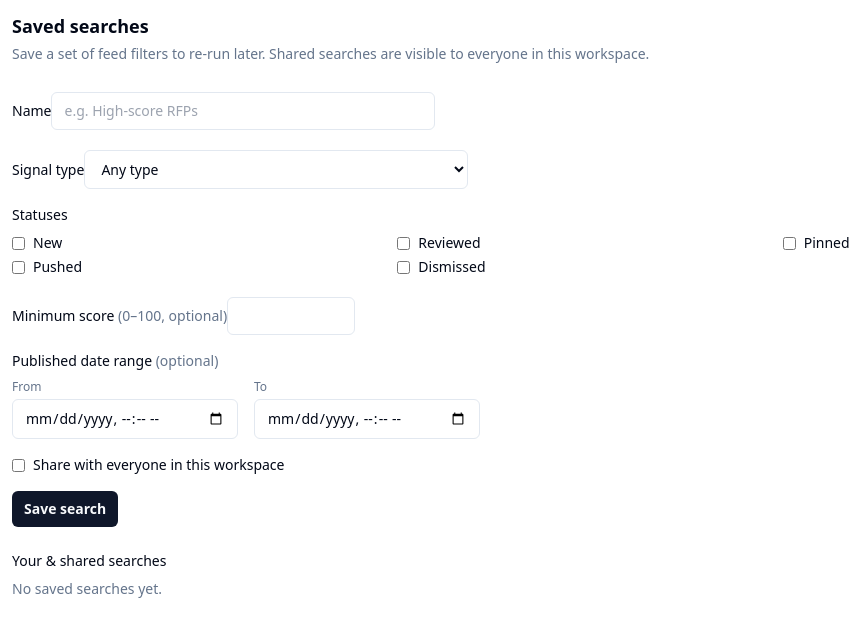
Test case: SavedSearchManager › shows an explicit message for an inverted date range before submit (H2)
In the field labelled "Name": (244, 111) x1=52 y1=92 x2=436 y2=130, type "Bad range"
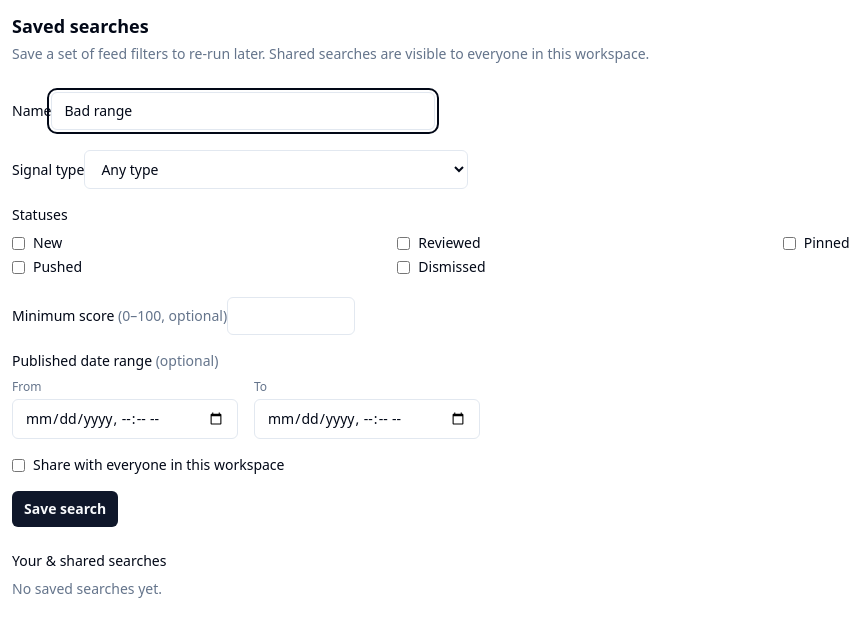
Note: Start after end → contradictory date range.
In the field labelled "From": (125, 419) x1=12 y1=399 x2=238 y2=439, type "2026-02-01T00:00"
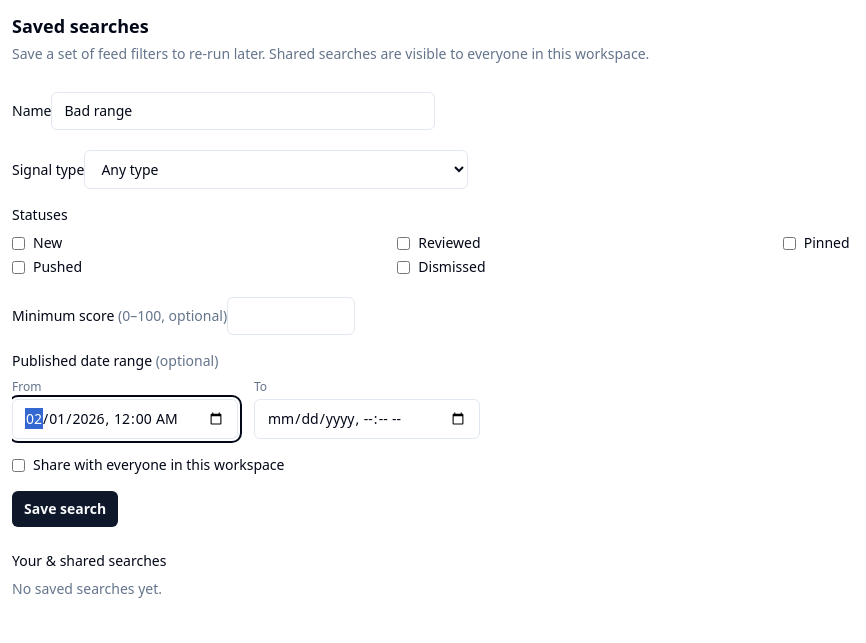
In the field labelled "To": (367, 419) x1=254 y1=399 x2=480 y2=439, type "2026-01-01T00:00"
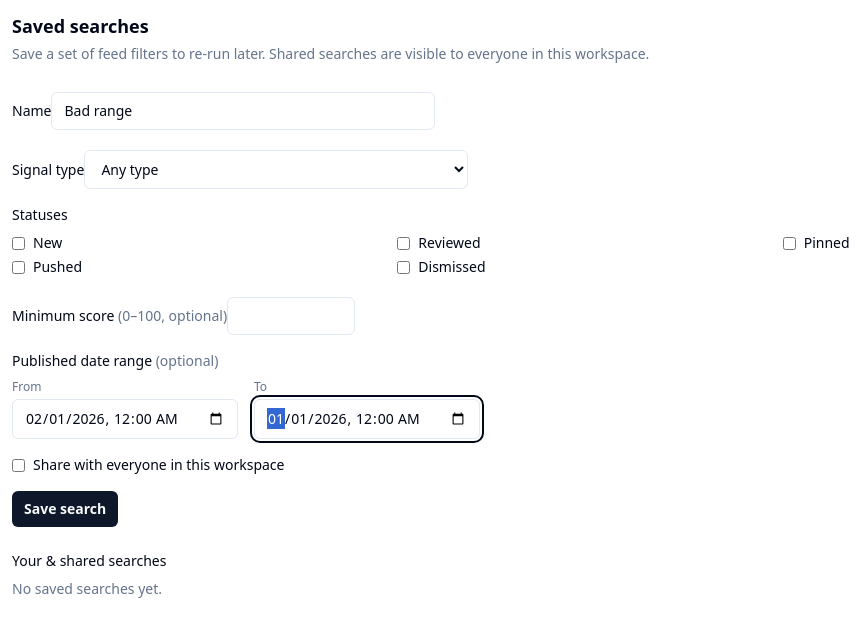
Click the button "Save search": (65, 509) x1=12 y1=491 x2=118 y2=527
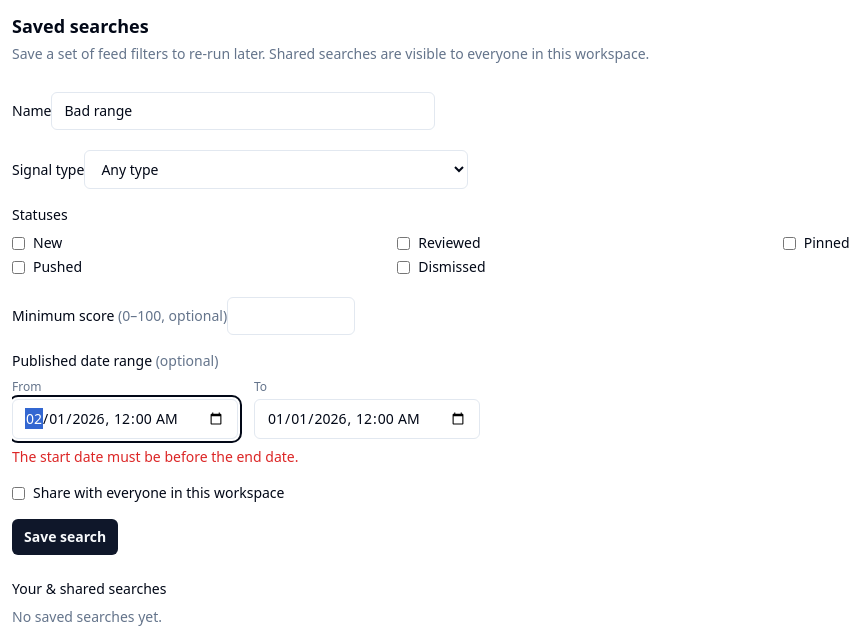
Expected: the text "The start date must be before the end date." is shown, x1=12 y1=447 x2=298 y2=466
